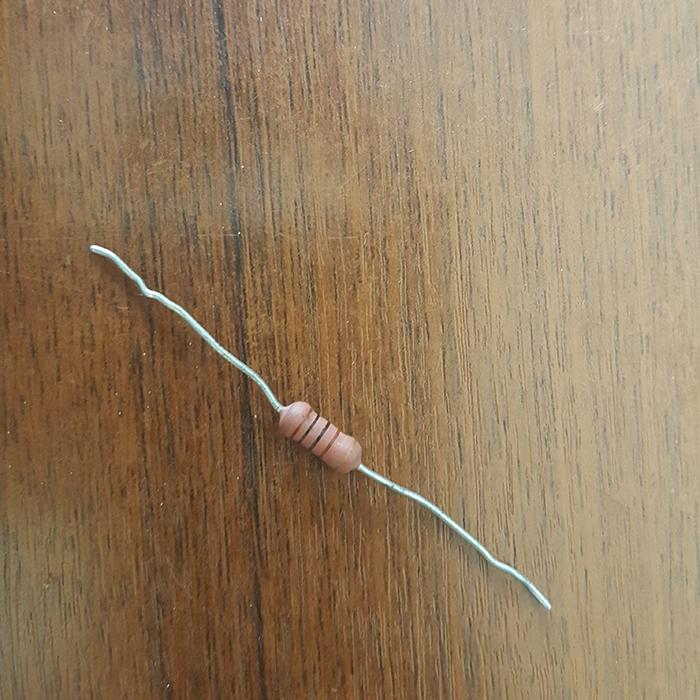resistor: (276, 399, 362, 471)
